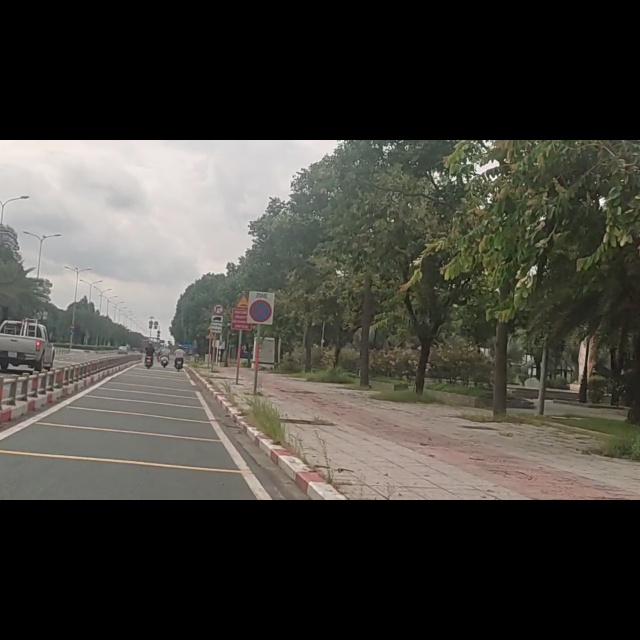bien_nguy_hiem: (247, 265, 275, 329), (210, 309, 223, 344), (212, 290, 224, 309)
